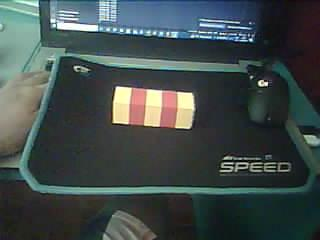lego: (112, 85, 196, 130)
